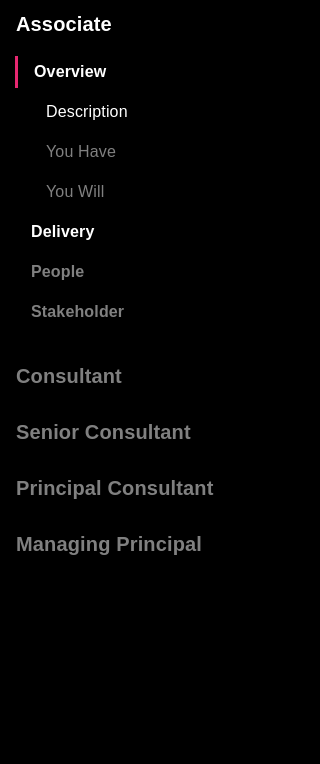
Test: SideBarList › Select different categories › should click People and check all competencies are visible
Click the button with test id "associate-people": point(58, 272) [31,263,84,280]
(page scrolled)
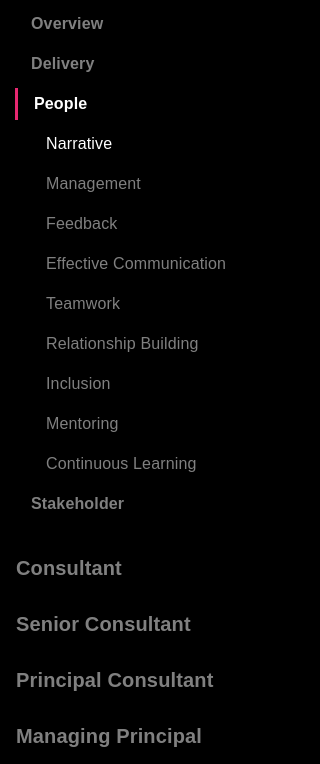
Result: the button "Narrative" is shown at [46,135,112,152]
Result: the button "Management" is shown at [46,175,141,192]
Result: the button "Feedback" is shown at [46,215,118,232]
